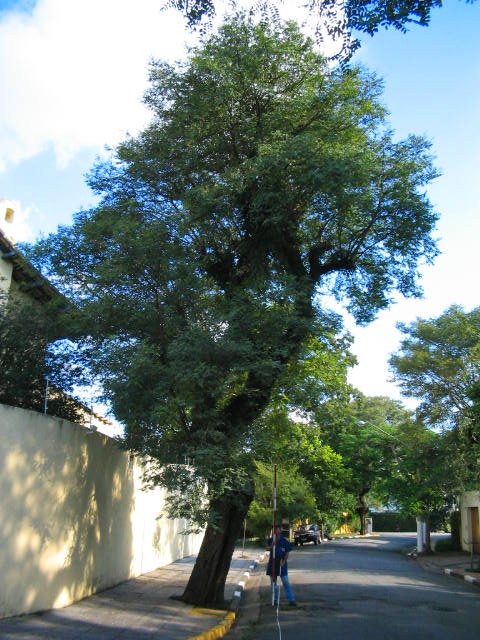crown: (17, 5, 442, 484)
stem: (174, 490, 260, 607)
stick: (267, 463, 279, 604)
tree: (15, 3, 445, 610)
